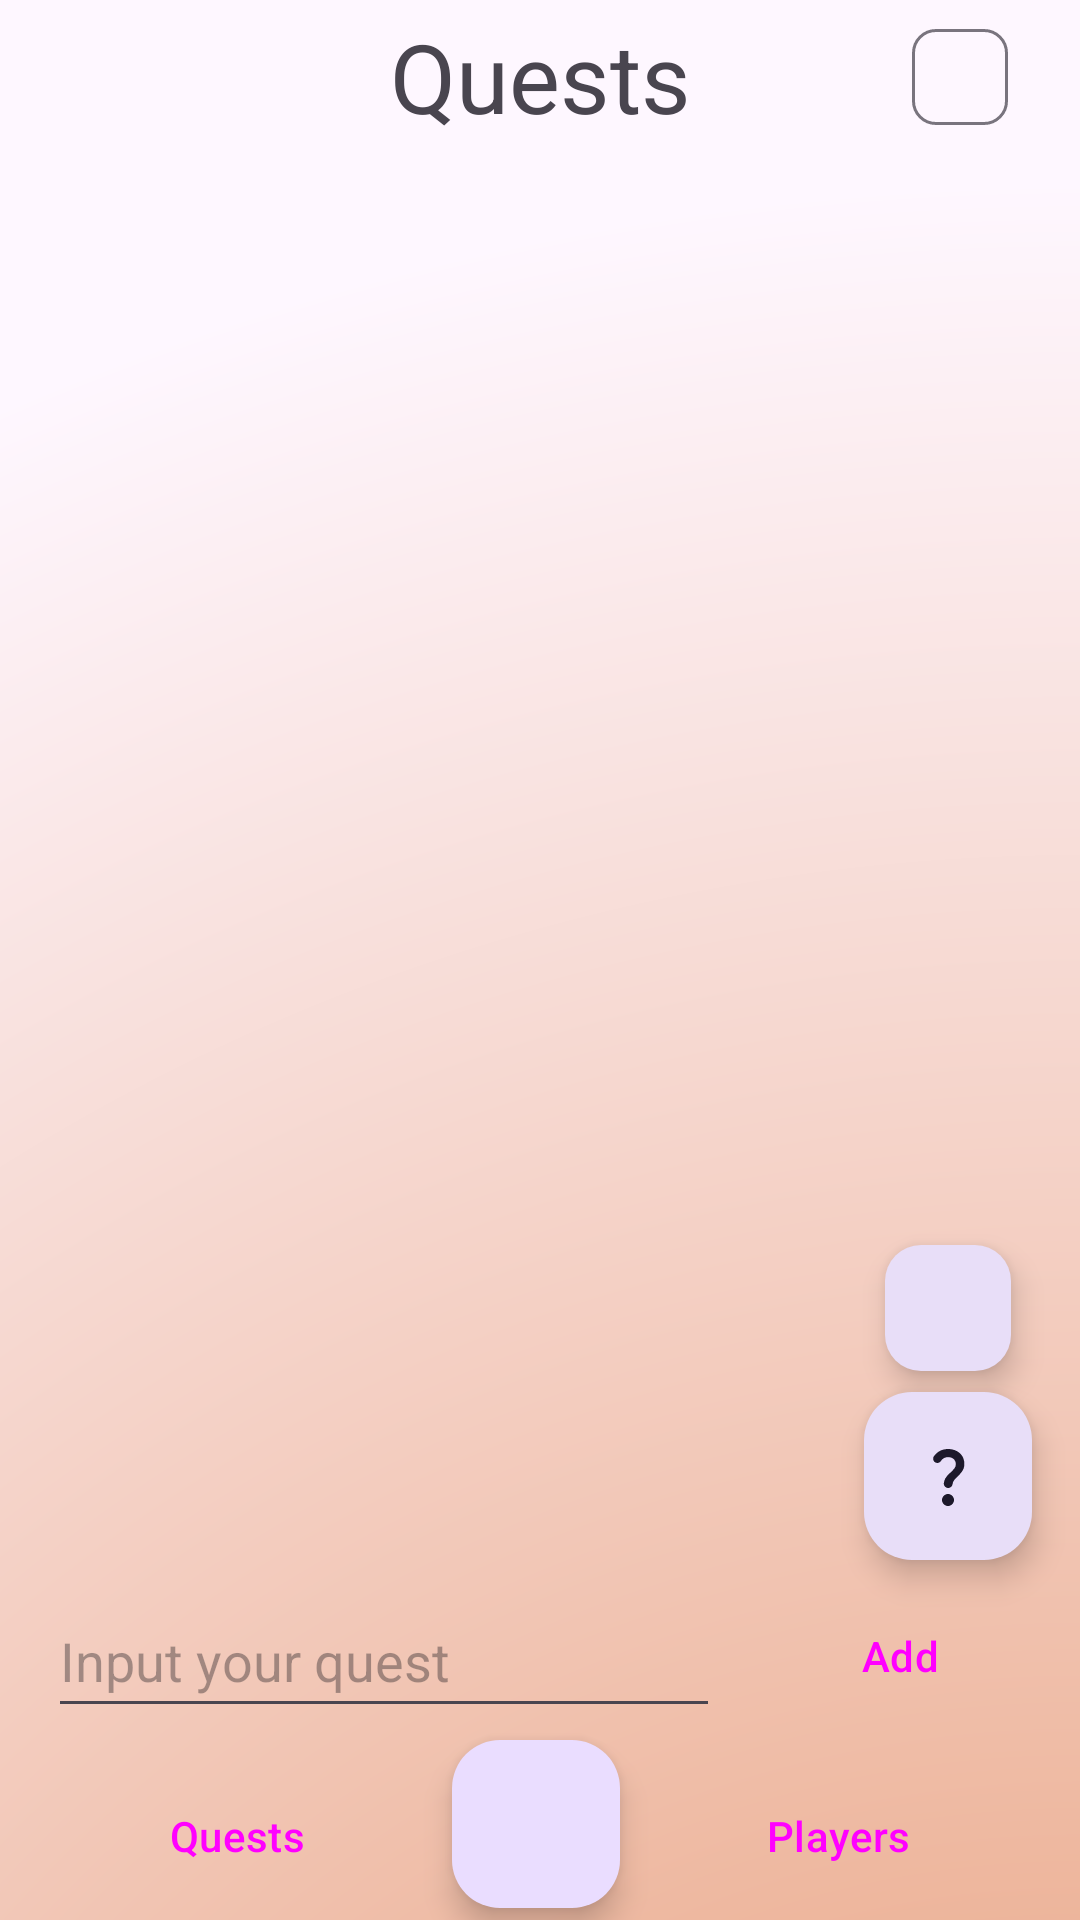

Named icons in this screenshot (1080px x 1920px) and their centers, point (x, y):
Hint: point (948, 1476)
